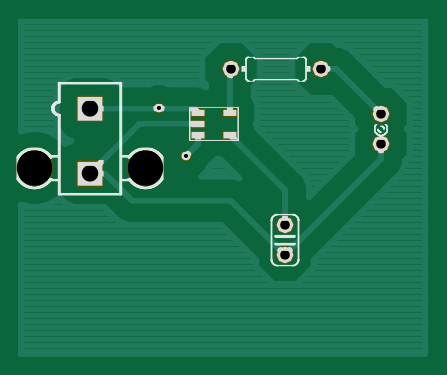LED: (372, 105, 390, 153)
capacitance: (269, 214, 300, 266)
power_supply: (17, 81, 164, 196)
regulation: (188, 107, 239, 142)
resistance: (223, 57, 330, 84)
